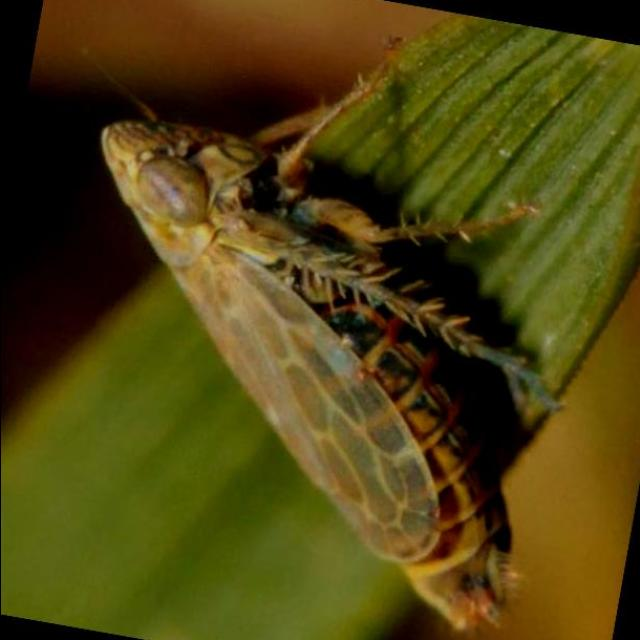green leaf hopper: (101, 77, 555, 628)
